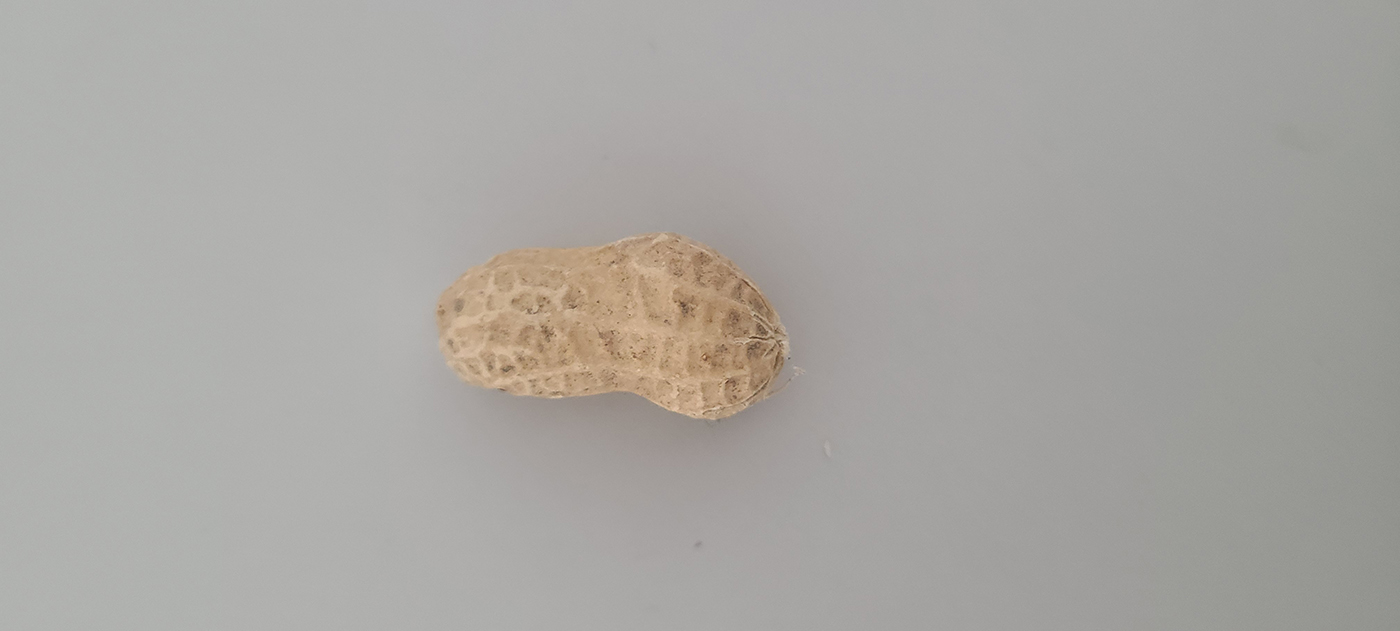h: (437, 230, 787, 420)
